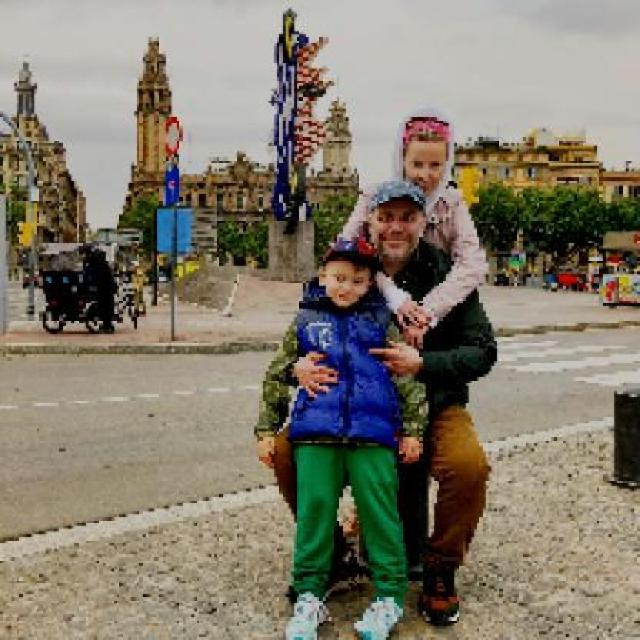child: (254, 234, 429, 637)
